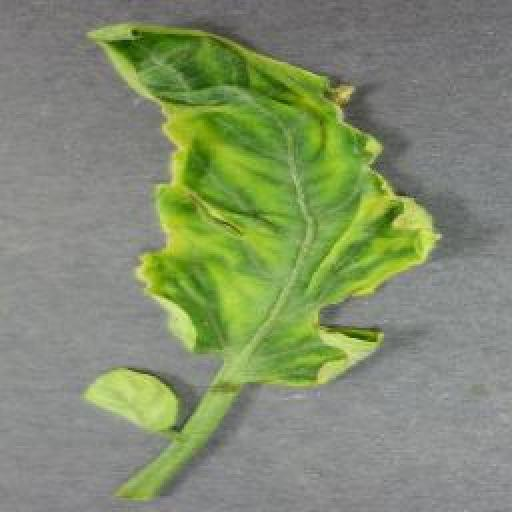disease_tomato: (88, 21, 441, 391)
